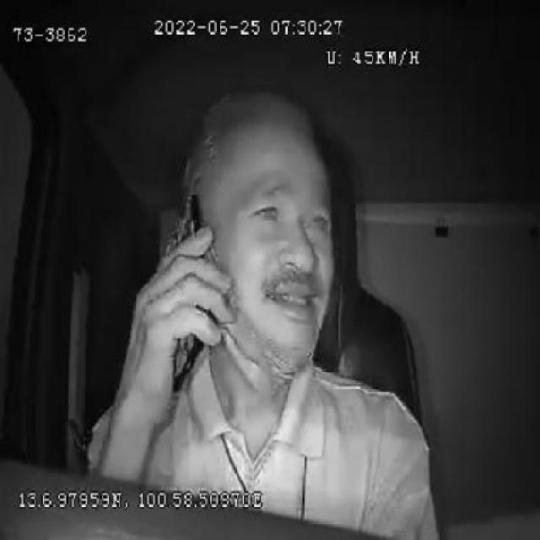phone: (162, 192, 213, 379)
